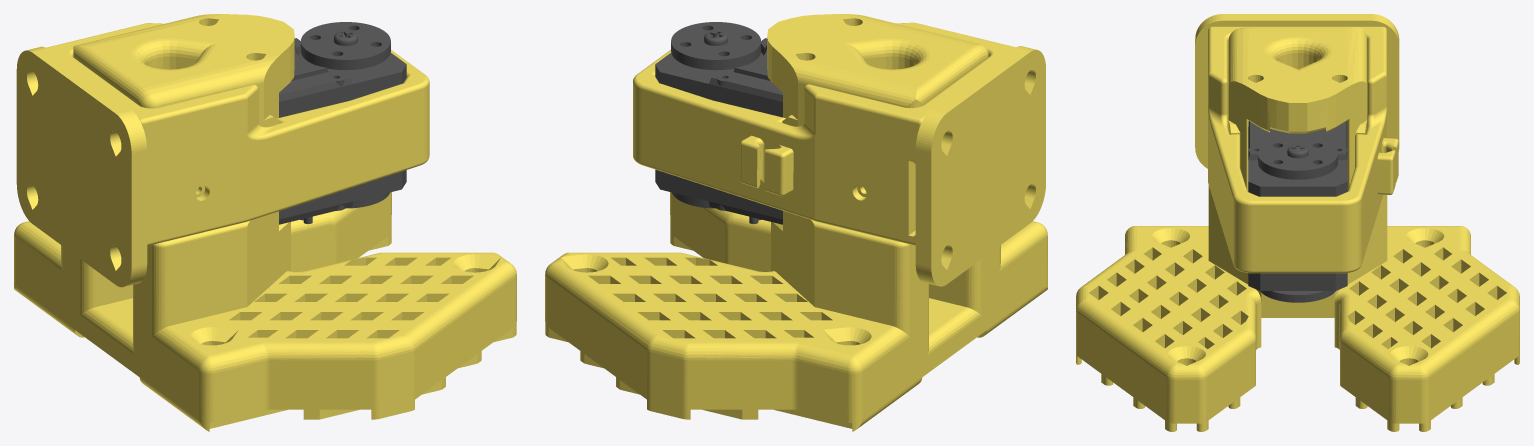
The picture shows the model from 3 angles, left to right: view 1: azimuth 30°, elevation 25°; view 2: azimuth 150°, elevation 25°; view 3: azimuth 270°, elevation 25°; orthographic projection. The views are drawn at different scales.
Parts seen in each view (by area): view 1: base; view 2: base; view 3: base.
Part boxes in pixels (left/top/right/bottom): base: left=14, top=14, right=516, bottom=431; base: left=545, top=14, right=1047, bottom=431; base: left=1076, top=14, right=1519, bottom=431.
Size of the model in its own units: 0.0956 by 0.072 by 0.1109.
